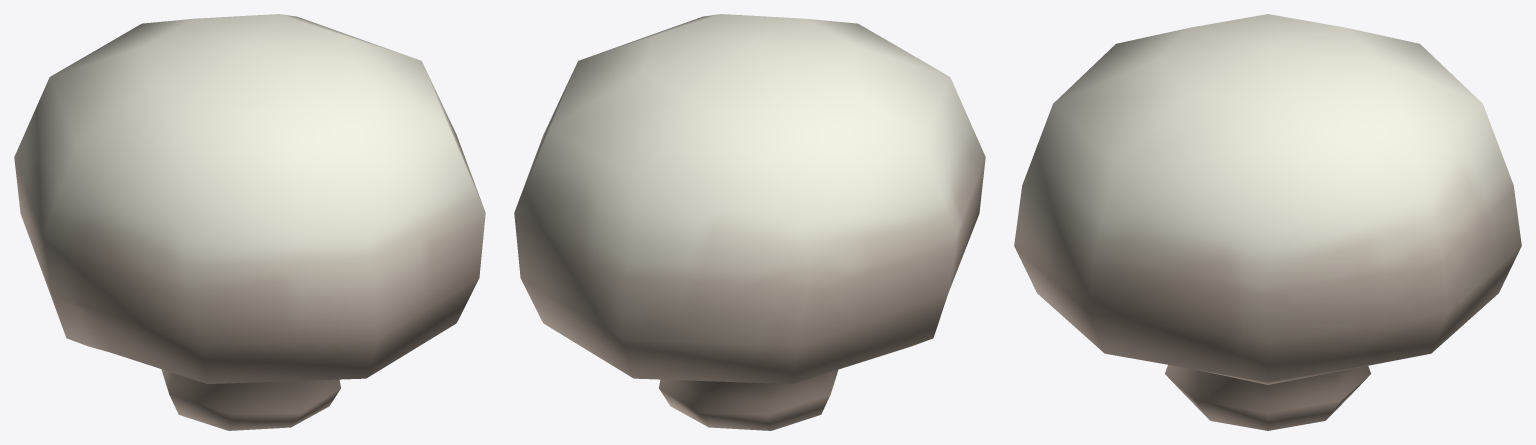
File: JamurKancing.fbx
3 renders of one model, left to right at view 1: azimuth 30°, elevation 25°; view 2: azimuth 150°, elevation 25°; view 3: azimuth 270°, elevation 25°, orthographic.
Parts seen in each view (by area): view 1: j.kancing; view 2: j.kancing; view 3: j.kancing.
Boxes of the visible parts, x1,y1,x2,y2 form: j.kancing: (14, 14, 485, 430); j.kancing: (514, 14, 985, 430); j.kancing: (1014, 14, 1521, 430).
Bounding box in the file's own units: 58.87 × 49.56 × 63.08.
